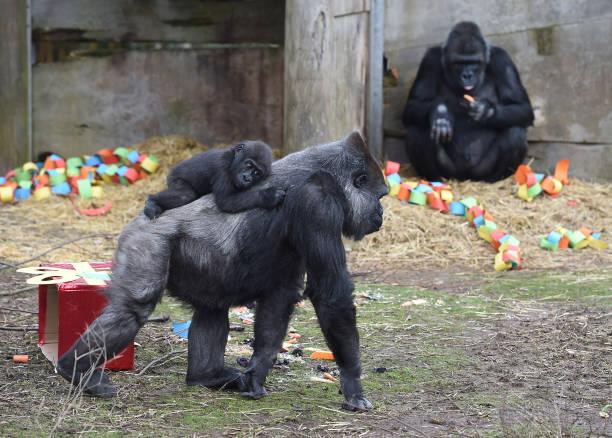gorille_Autres: (96, 106, 399, 410), (408, 2, 541, 183)
